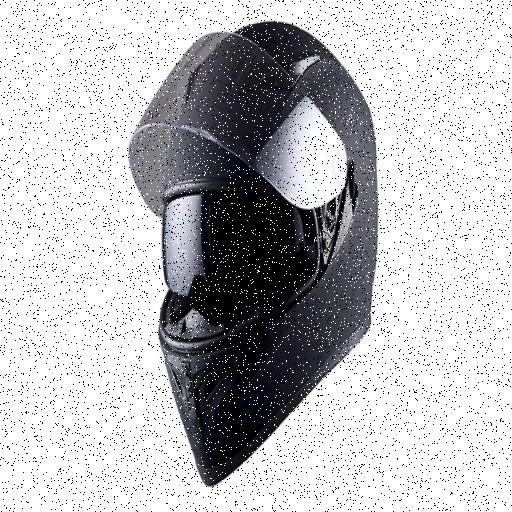Helmet: (109, 23, 407, 474)
